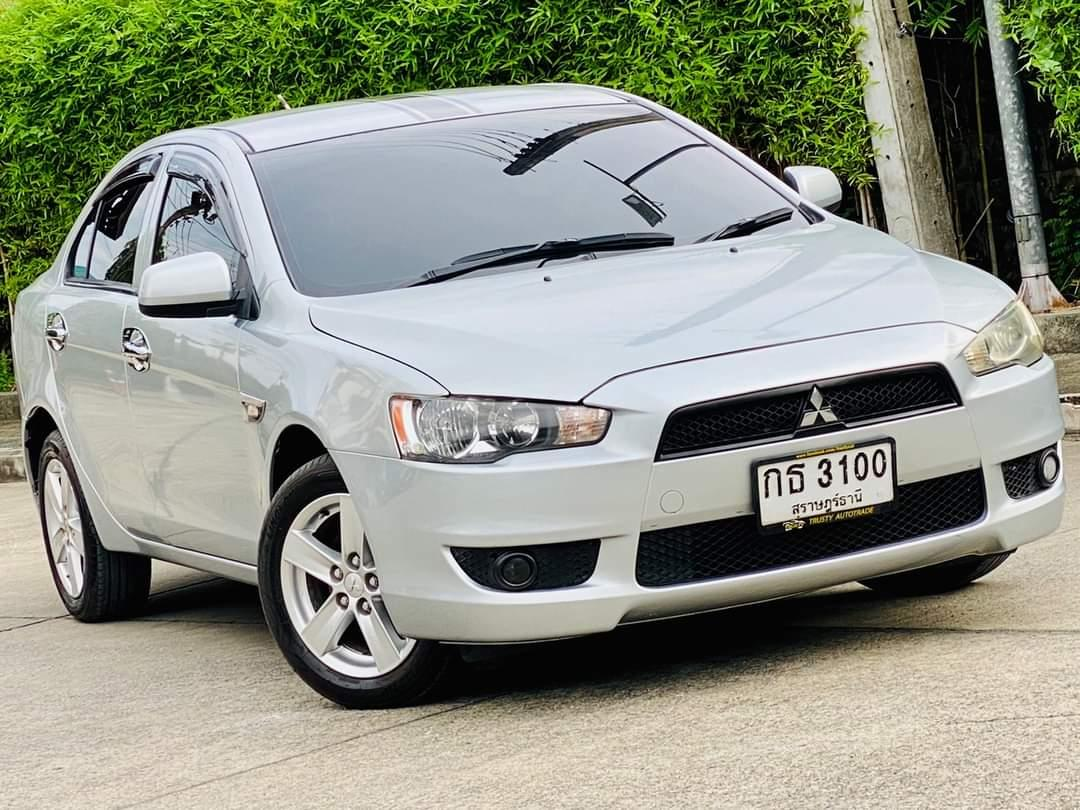license-plate: (747, 436, 901, 533)
